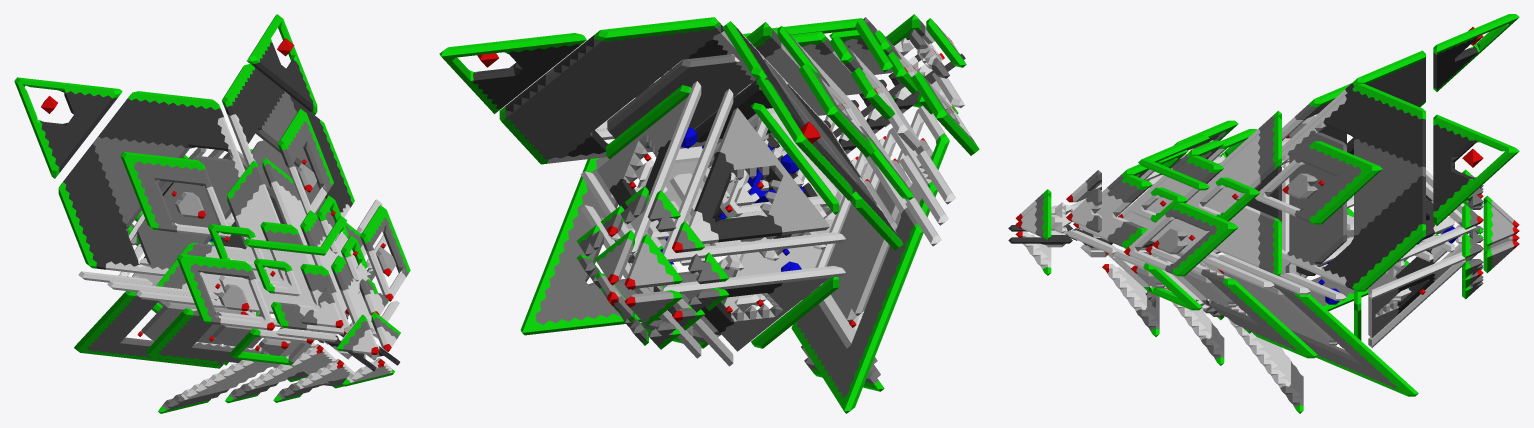
The model's file is ship_auron_narma.fbx.
3 renders of one model, left to right at view 1: azimuth 30°, elevation 25°; view 2: azimuth 150°, elevation 25°; view 3: azimuth 270°, elevation 25°, orthographic. The views are drawn at different scales.
Visible parts, largest first — view 1: ship_auron_narma; view 2: ship_auron_narma; view 3: ship_auron_narma.
Part boxes in pixels (x1,y1,x2,y2): ship_auron_narma: (14,14,410,413); ship_auron_narma: (439,14,979,413); ship_auron_narma: (1008,14,1519,413).
Size of the model in its own units: 5100 by 4400 by 7100.
